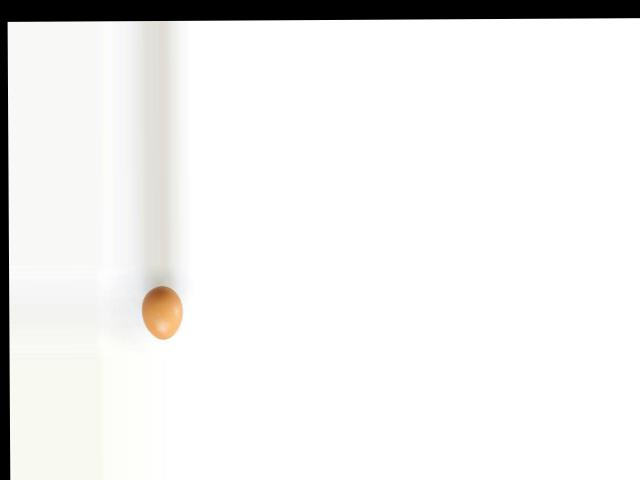egg: (140, 285, 182, 340)
